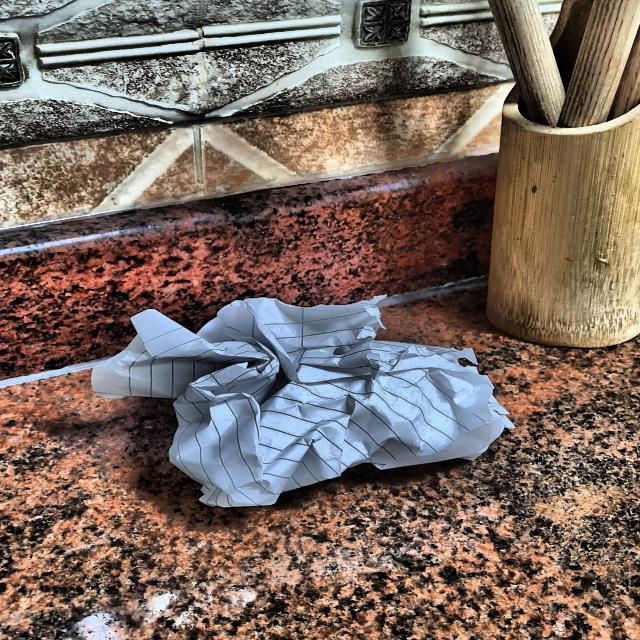paper: (95, 274, 532, 522)
